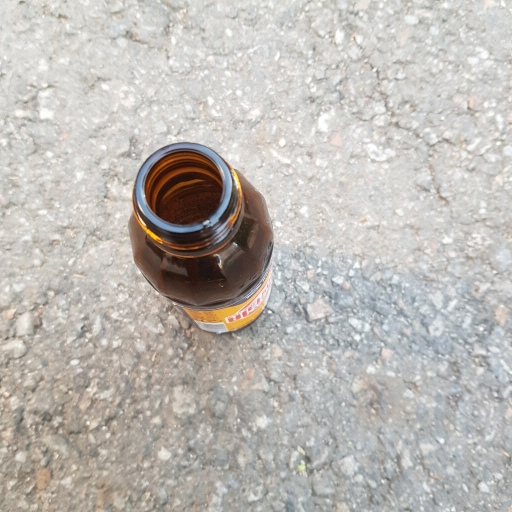Glass_3: (124, 140, 277, 340)
